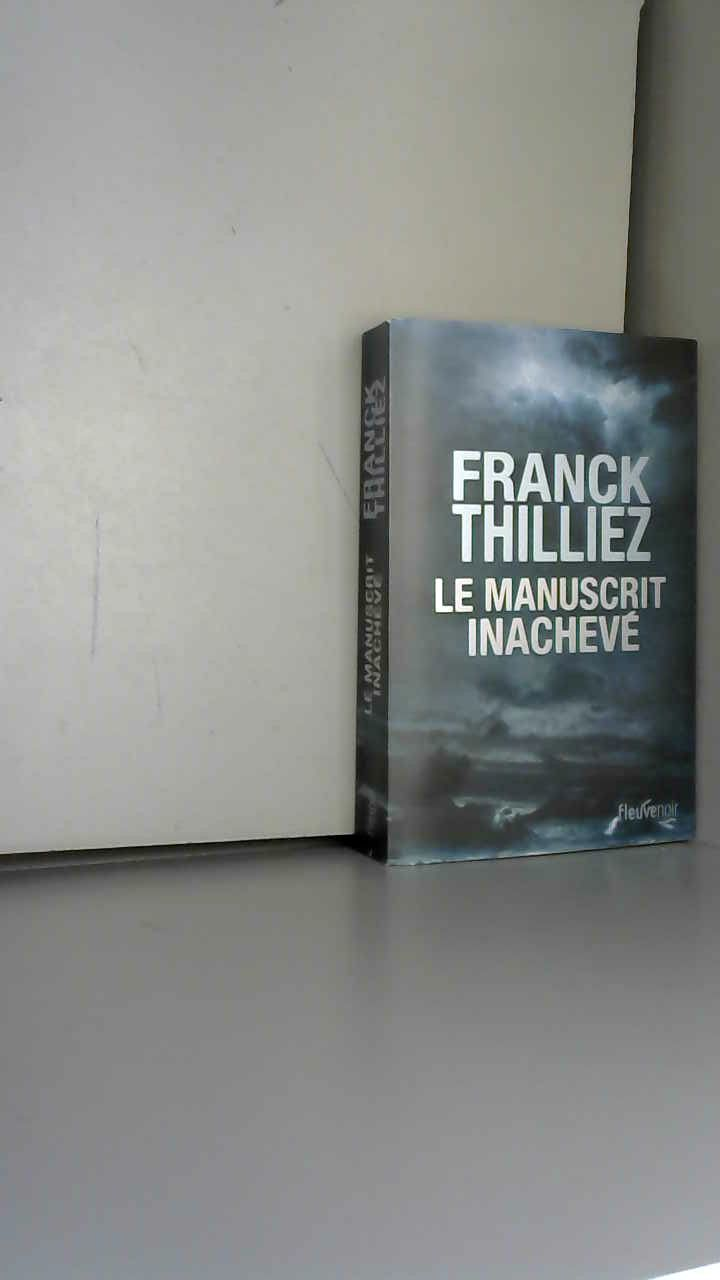book: (330, 290, 720, 907)
